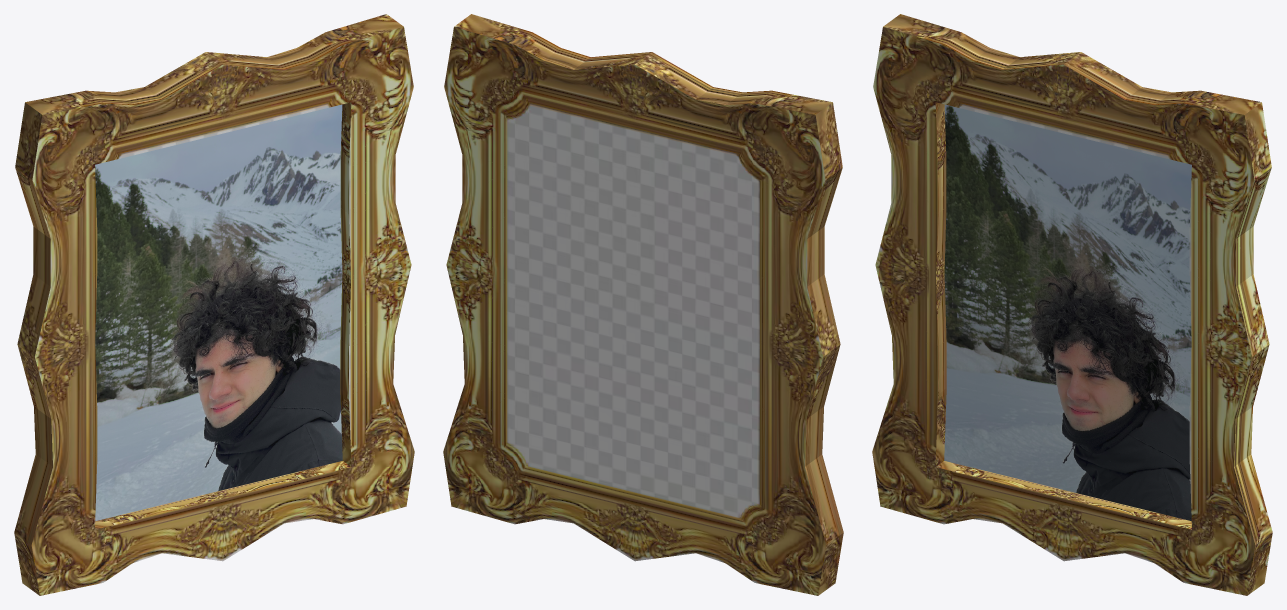
The model's file is painting11.obj.
3 renders of one model, left to right at view 1: azimuth 30°, elevation 25°; view 2: azimuth 150°, elevation 25°; view 3: azimuth 330°, elevation 25°, orthographic.
Parts seen in each view (by area): view 1: painting11; view 2: painting11; view 3: painting11.
Part boxes in pixels (x1,y1,x2,y2): painting11: (14, 14, 414, 595); painting11: (443, 14, 843, 595); painting11: (872, 14, 1272, 595).
Bounding box in the file's own units: 1.29 × 1.59 × 0.1011.
Materials: 1 (1 with a texture image).
